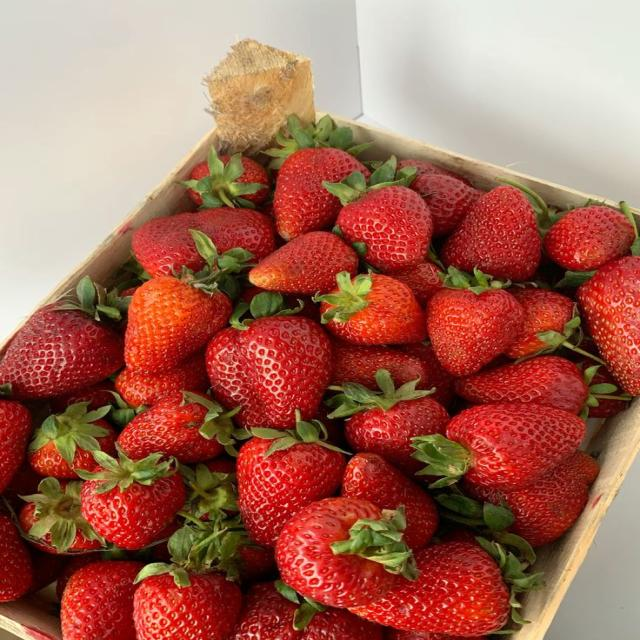strawberry: (207, 293, 331, 429), (276, 498, 415, 608), (0, 278, 123, 399), (414, 404, 585, 490), (353, 543, 510, 636), (237, 421, 345, 546), (463, 452, 597, 546), (329, 370, 449, 474), (325, 158, 433, 272), (134, 524, 241, 639), (125, 274, 232, 373), (79, 451, 186, 549), (427, 268, 523, 376), (133, 207, 275, 277), (441, 186, 541, 281), (341, 453, 439, 549), (118, 391, 248, 463), (274, 149, 370, 240), (229, 582, 382, 639), (578, 256, 639, 395), (314, 272, 426, 344), (455, 356, 588, 413), (249, 231, 358, 295), (134, 574, 241, 639), (28, 402, 117, 478), (263, 115, 373, 175), (61, 561, 143, 639), (20, 478, 104, 553), (545, 205, 636, 270), (180, 147, 270, 208), (115, 352, 209, 406), (332, 340, 433, 388), (505, 287, 573, 358), (410, 173, 484, 236), (398, 342, 454, 407), (180, 464, 238, 520), (0, 512, 33, 602), (0, 400, 31, 493), (47, 554, 103, 601), (393, 260, 442, 305), (49, 380, 114, 412), (2, 460, 42, 512), (27, 546, 69, 594), (398, 160, 470, 185), (577, 357, 618, 396), (237, 543, 276, 584), (151, 519, 182, 562), (562, 450, 599, 485), (386, 628, 486, 639), (283, 295, 319, 322), (203, 455, 236, 473)
